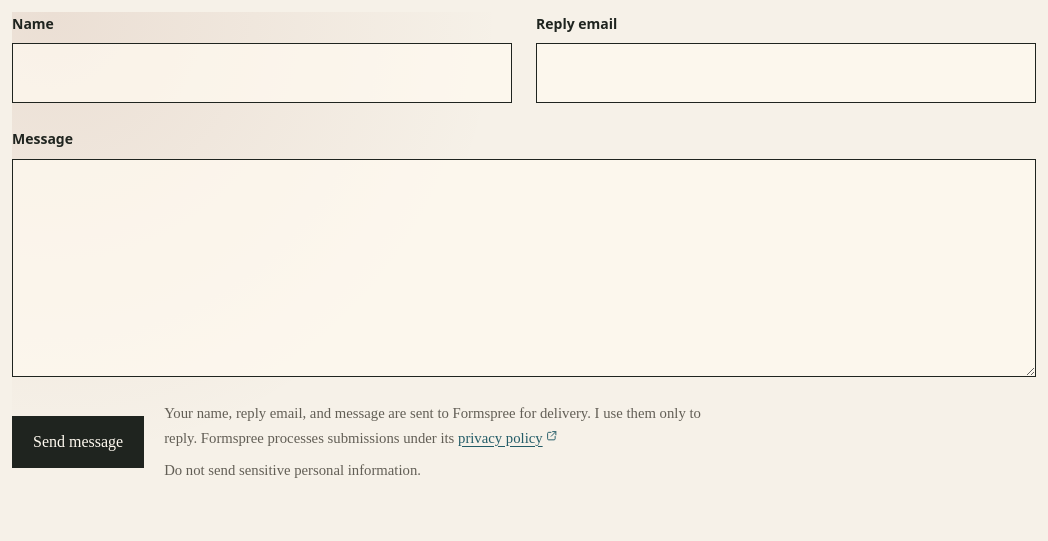
Test: ContactForm › keeps the visitor in control when delivery fails
Type "Grace Hopper" into the field labelled "Name" at (262,73), box [12, 43, 512, 104]
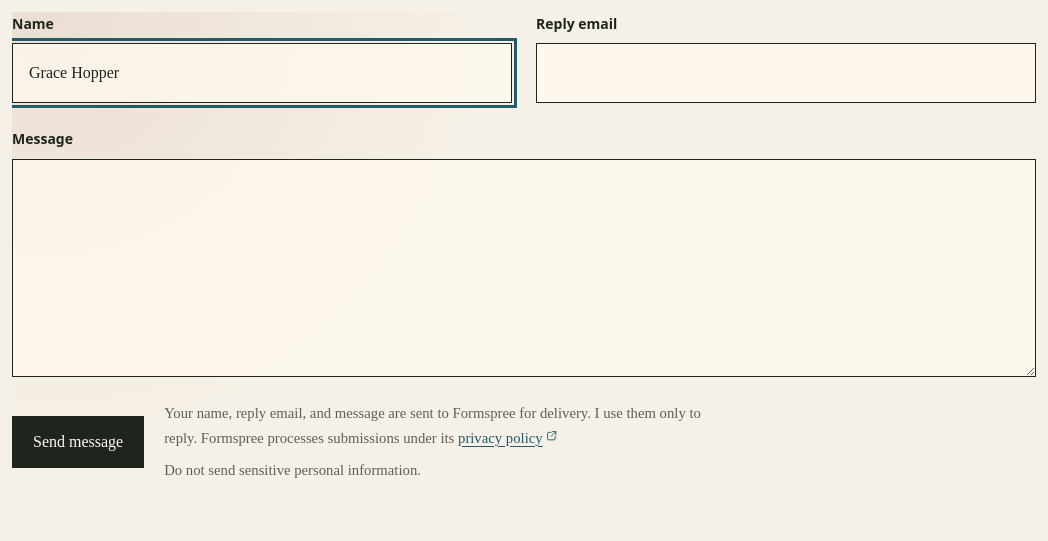
Type "grace@example.test" into the field labelled "Reply email" at (786,73), box [536, 43, 1036, 104]
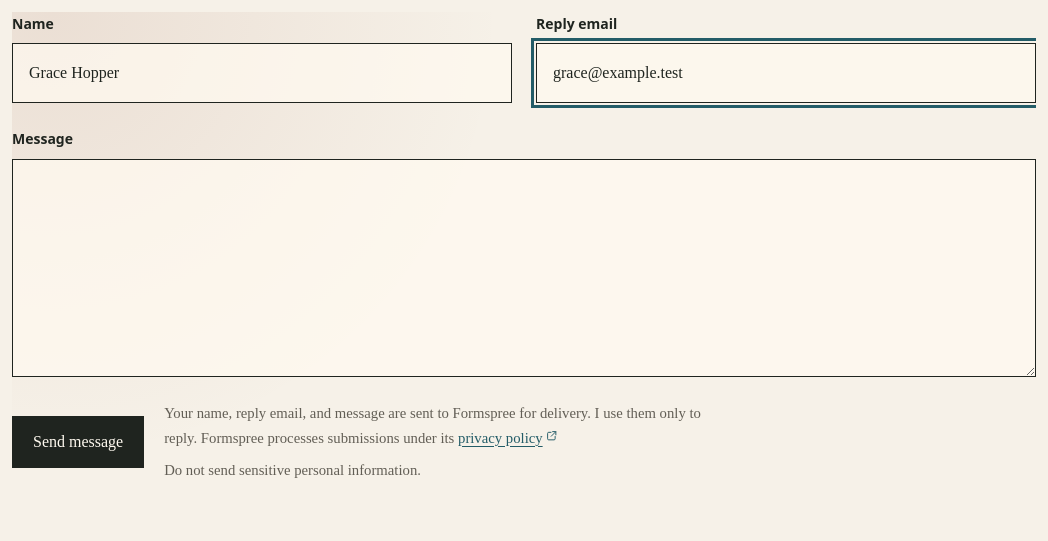
Type "Can we talk about the project?" into the text box labelled "Message" at (524,268), box [12, 159, 1036, 377]
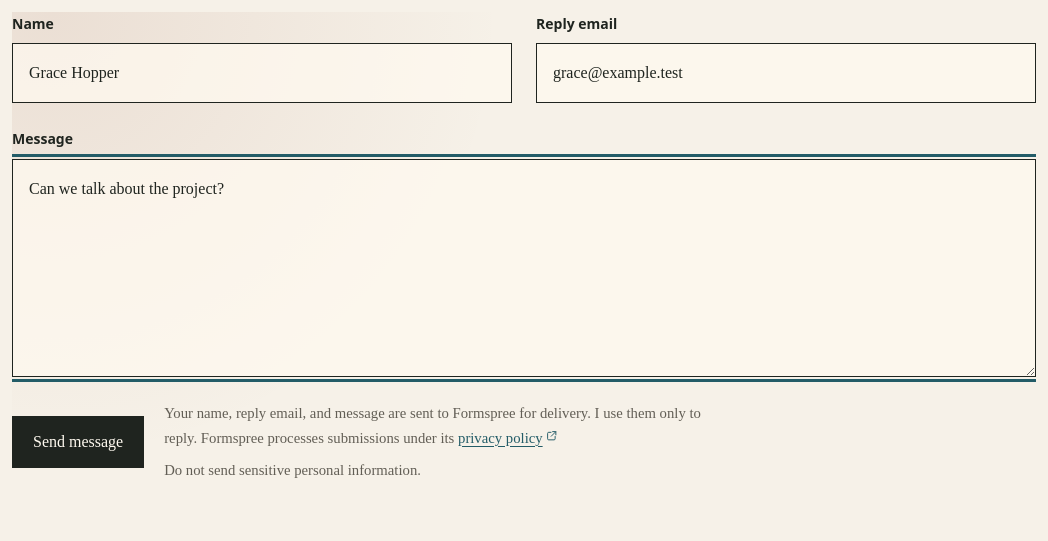
Click the button "Send message" at (78,442), box [12, 416, 144, 468]
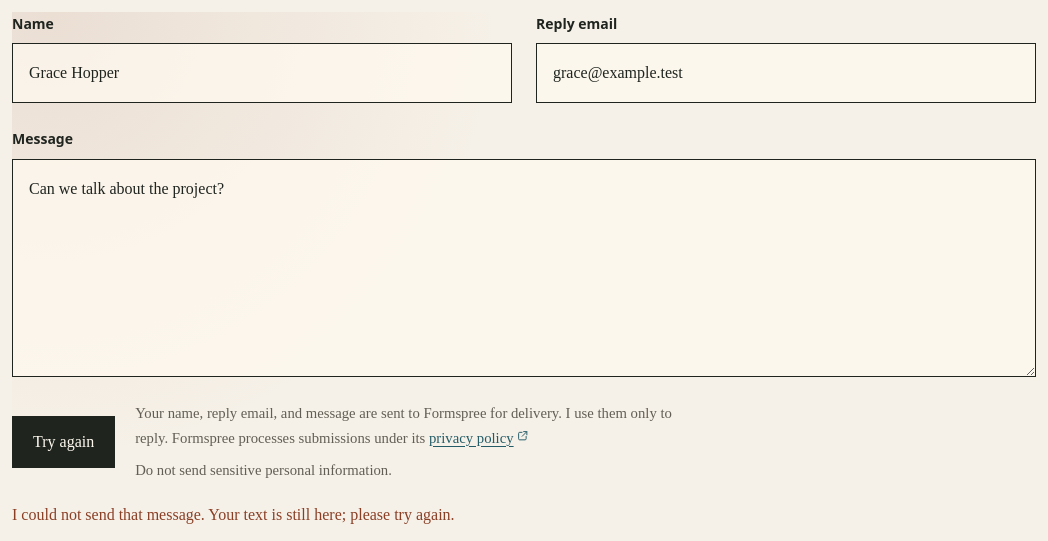
Expected: the button "Try again" is enabled, [12, 416, 115, 468]
Now the message shows "could not send", box [12, 506, 455, 523]
